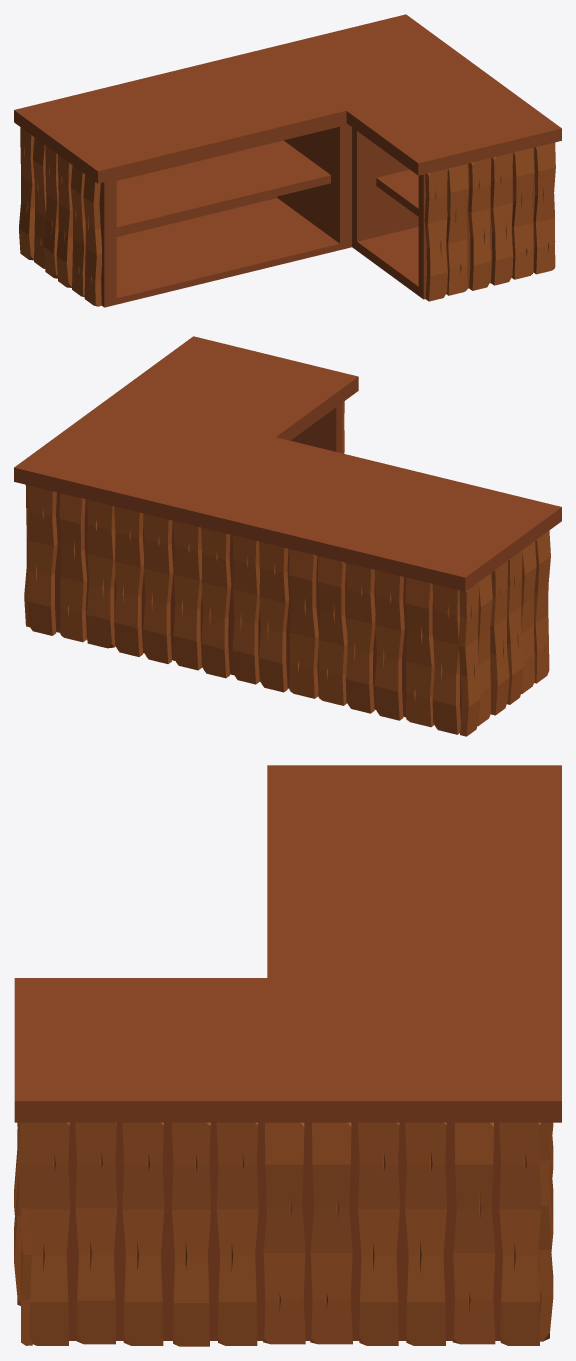
Rendered from bar.fbx.
3 views of the same model, one above another, from view 1: azimuth 30°, elevation 25°; view 2: azimuth 150°, elevation 25°; view 3: azimuth 270°, elevation 25° (orthographic). The views are drawn at different scales.
Visible parts, largest first — view 1: Cube.001, Cube, Cube.006, Cube.020; view 2: Cube.006, Cube.001, Cube; view 3: Cube.001, Cube.006, Cube.
Part boxes in pixels (x1,y1,x2,y2): Cube.001: [14, 14, 561, 183]; Cube: [99, 123, 535, 307]; Cube.006: [19, 127, 555, 306]; Cube.020: [116, 140, 418, 235]; Cube.006: [24, 401, 550, 736]; Cube.001: [14, 336, 561, 591]; Cube: [55, 403, 490, 720]; Cube.001: [14, 765, 561, 1122]; Cube.006: [14, 1122, 553, 1346]; Cube: [66, 1122, 502, 1340].
Bounding box in the file's own units: 632 × 218 × 436.
